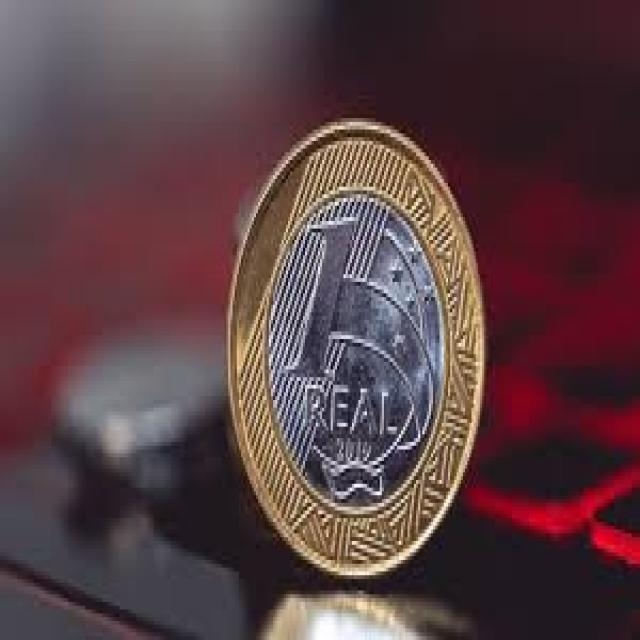1 real: (227, 118, 487, 580)
